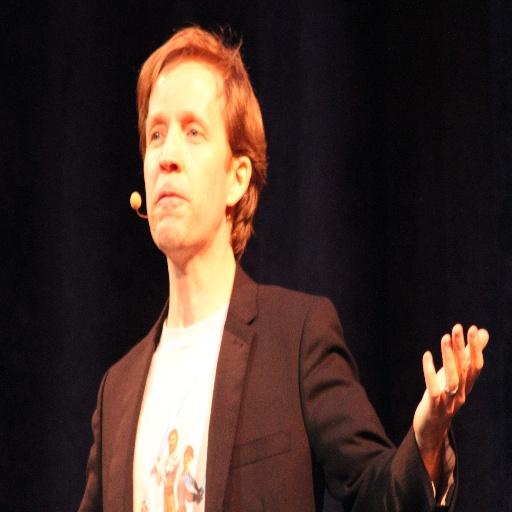hand: (417, 338, 488, 449)
